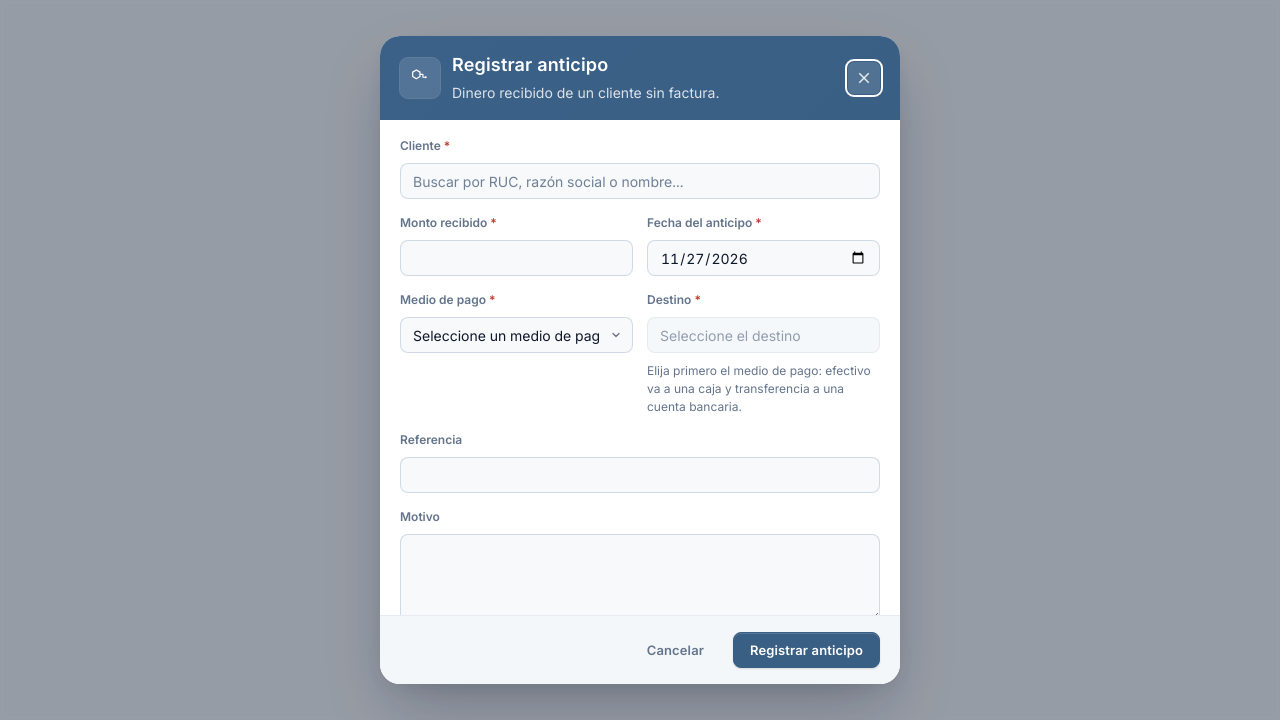
Scenario: Registro — cada recurso exige solo su permiso › pm-transfer sin su permiso lo explica y no aparenta estar vacío
Select "Transferencia" in the dropdown labelled "Medio de pago*" at (516, 335), box left=400, top=317, right=633, bottom=353
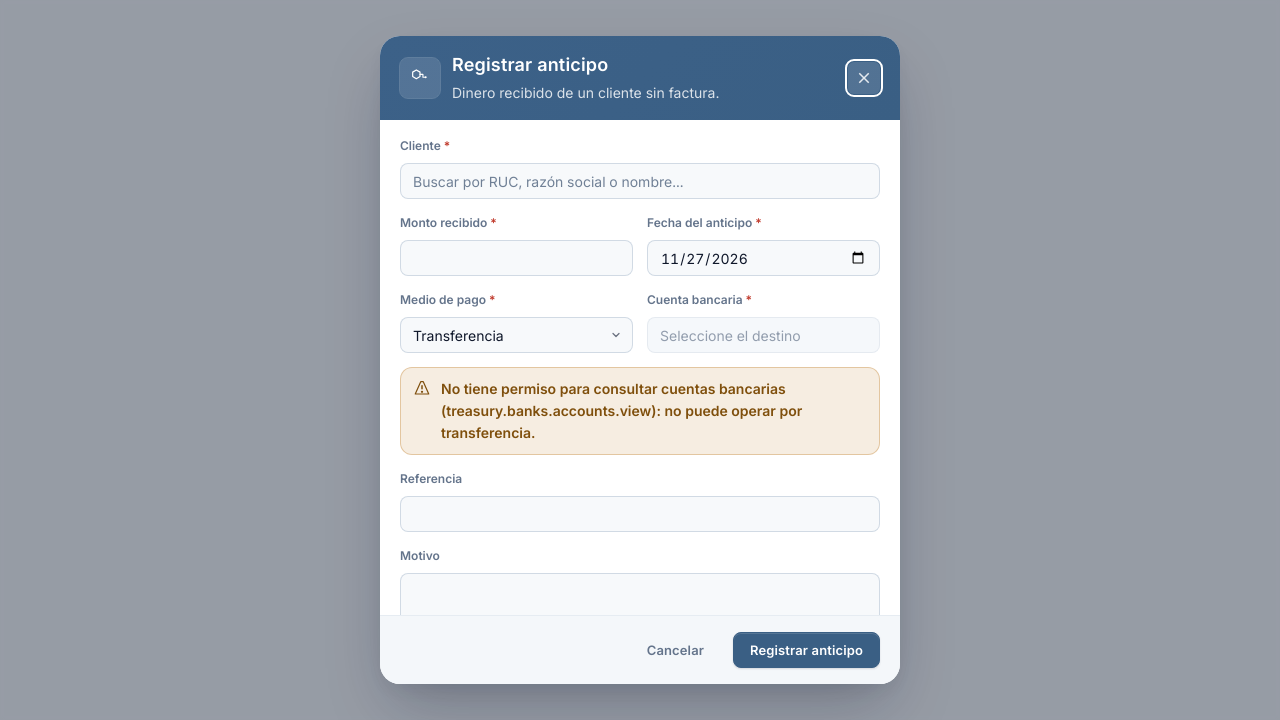
Expected: the dropdown labelled "Cuenta bancaria*" is disabled, left=647, top=317, right=880, bottom=353
Expected: the text "No tiene permiso para consultar cuentas bancarias (treasury.banks.accounts.view)" is shown, left=441, top=380, right=802, bottom=441
